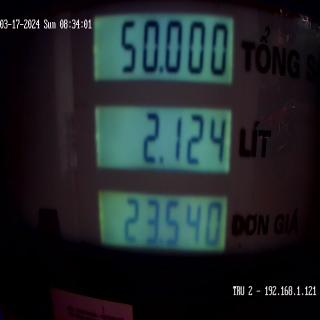screen: (90, 2, 240, 290)
